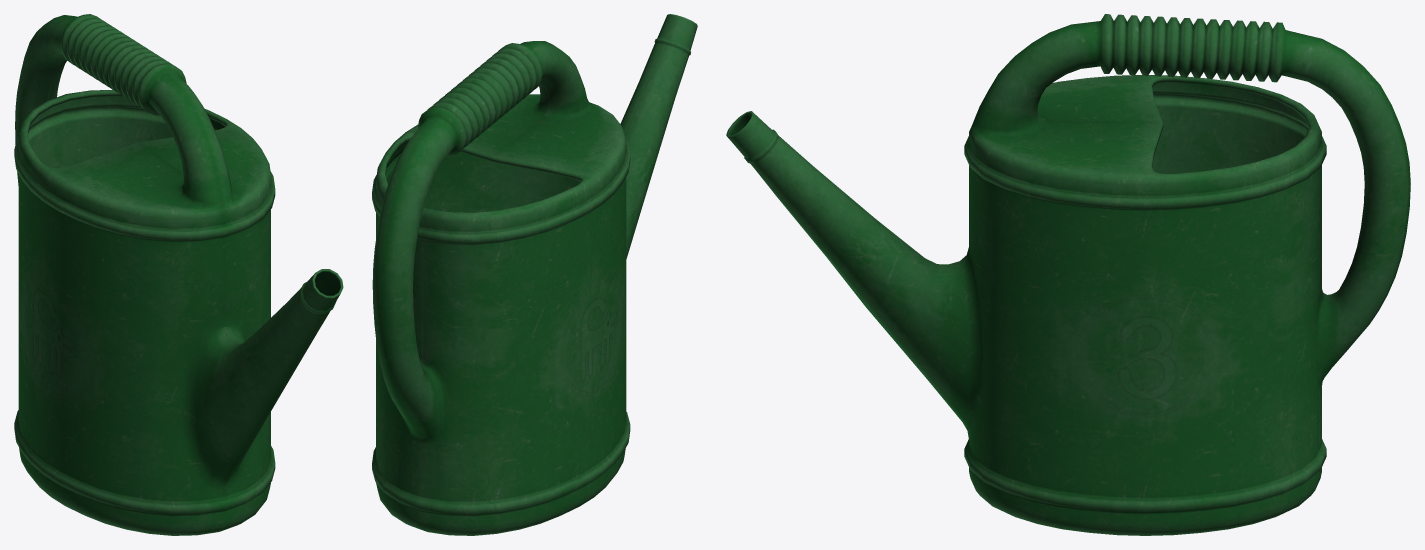
The model's file is Watering_can_lp.fbx.
The picture shows the model from 3 angles, left to right: view 1: azimuth 30°, elevation 25°; view 2: azimuth 150°, elevation 25°; view 3: azimuth 270°, elevation 25°; orthographic projection. The views are drawn at different scales.
Visible parts, largest first — view 1: watering_can_lp; view 2: watering_can_lp; view 3: watering_can_lp.
Boxes of the visible parts, box(x1,y1,x2,y2) form: watering_can_lp: box(14, 14, 343, 535); watering_can_lp: box(372, 14, 697, 535); watering_can_lp: box(726, 14, 1410, 535).
Bounding box in the file's own units: 19.17 × 38.42 × 50.5.
